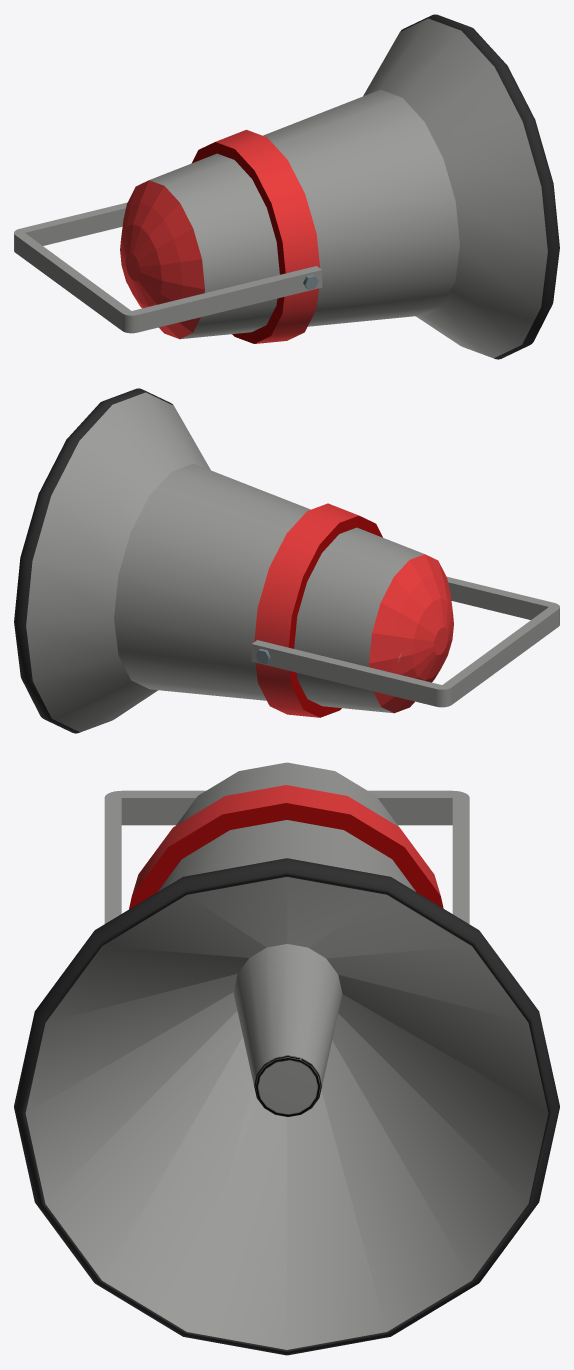
Rendered from Megaphone.fbx.
The picture shows the model from 3 angles, top to bottom: view 1: azimuth 30°, elevation 25°; view 2: azimuth 150°, elevation 25°; view 3: azimuth 270°, elevation 25°; orthographic projection. The views are drawn at different scales.
Visible parts, largest first — view 1: Megaphone; view 2: Megaphone; view 3: Megaphone.
Boxes of the visible parts, <box> form: Megaphone: <box>14,14,559,359</box>; Megaphone: <box>14,388,559,733</box>; Megaphone: <box>14,762,559,1355</box>.
Size of the model in its own units: 5.78 by 4.33 by 4.33.
Materials: 1 (1 with a texture image).
